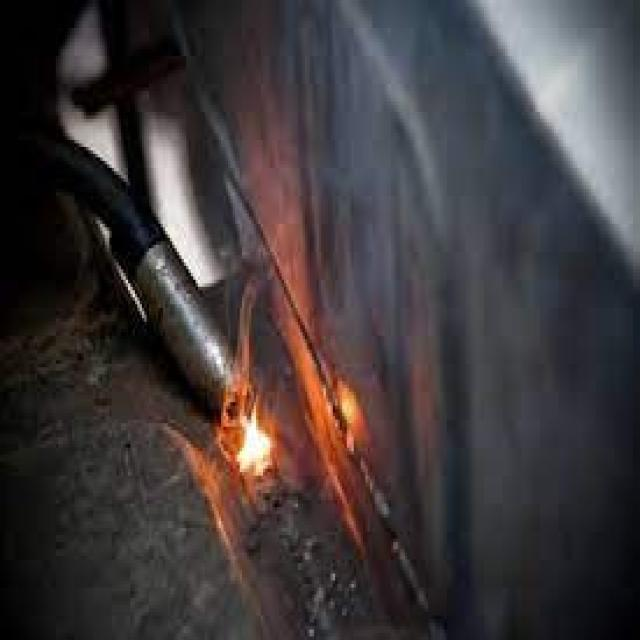fire: (235, 401, 272, 476)
